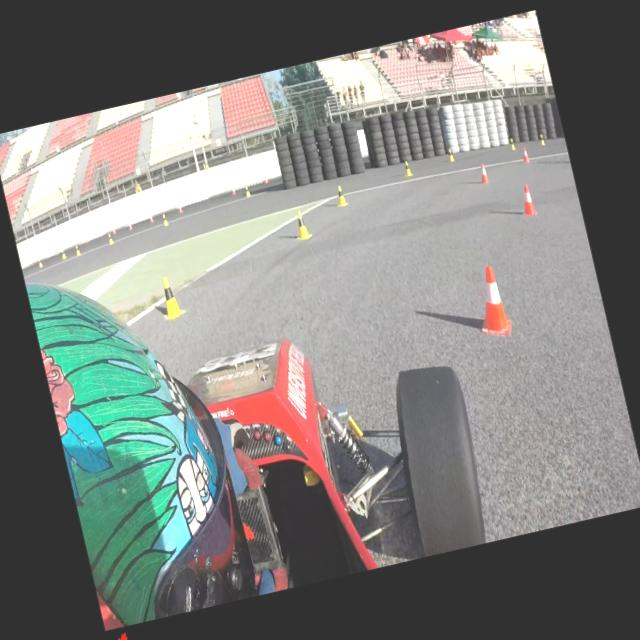orange_cone: (467, 262, 514, 342), (516, 183, 537, 218), (476, 162, 488, 184), (520, 146, 529, 163), (147, 211, 155, 223), (110, 223, 118, 234), (230, 183, 237, 194), (176, 202, 183, 213), (262, 172, 268, 184), (126, 218, 132, 230)
yellow_cone: (154, 274, 188, 321), (290, 208, 313, 241), (332, 184, 348, 206), (401, 159, 412, 178), (105, 230, 114, 245), (160, 212, 170, 225), (243, 184, 252, 198), (446, 148, 454, 162), (508, 137, 516, 151), (538, 132, 546, 146), (74, 243, 82, 257), (60, 248, 66, 260), (37, 257, 43, 268)
